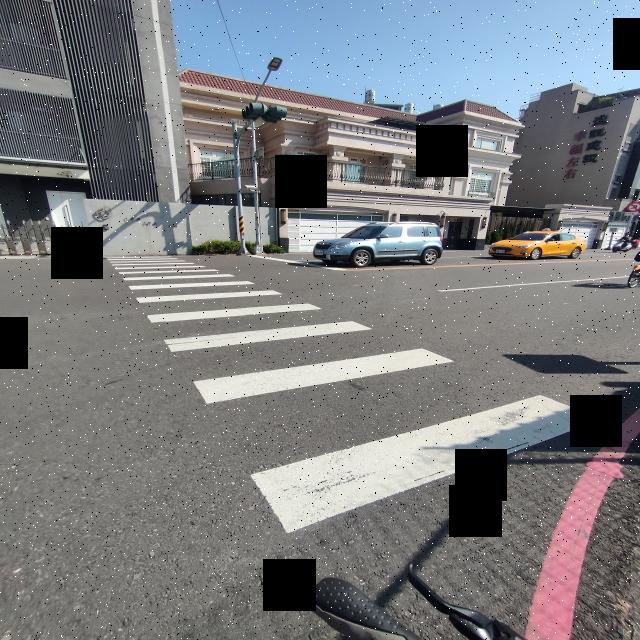zebra crossing: (106, 258, 607, 523)
